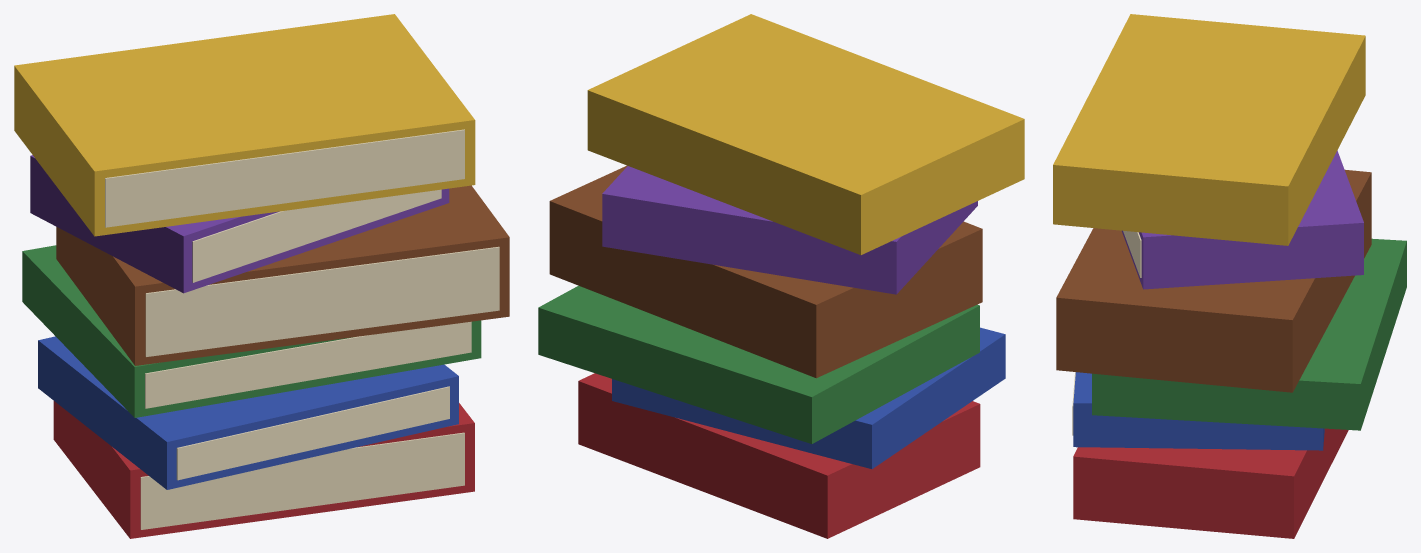
Rendered from book-stack.glb.
3 renders of one model, left to right at view 1: azimuth 30°, elevation 25°; view 2: azimuth 150°, elevation 25°; view 3: azimuth 270°, elevation 25°, orthographic. The views are drawn at different scales.
Visible parts, largest first — view 1: Books; view 2: Books; view 3: Books.
Boxes of the visible parts, x1,y1,x2,y2 form: Books: [14, 14, 509, 538]; Books: [538, 14, 1024, 538]; Books: [1053, 14, 1406, 538].
Size of the model in its own units: 0.333 by 0.2861 by 0.2626.
